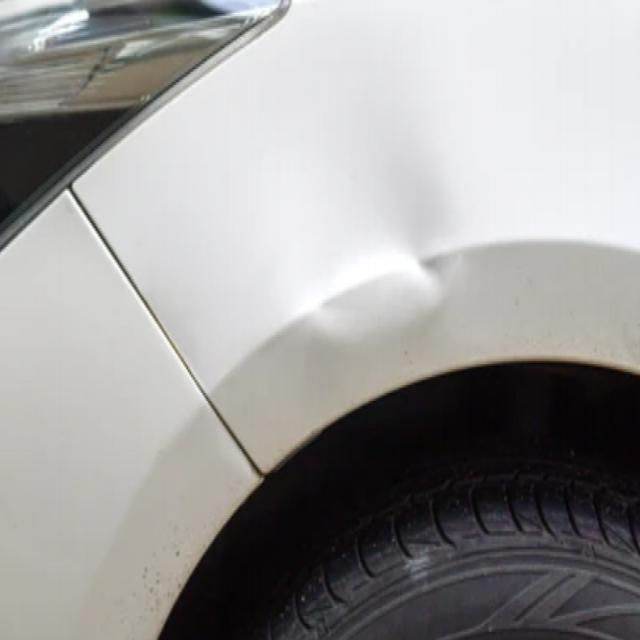dents: (272, 145, 474, 340)
